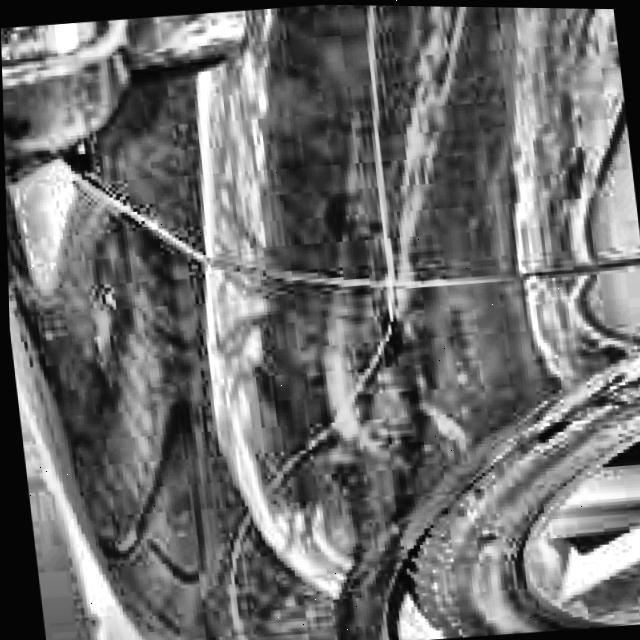door_scratch: (343, 5, 405, 286)
